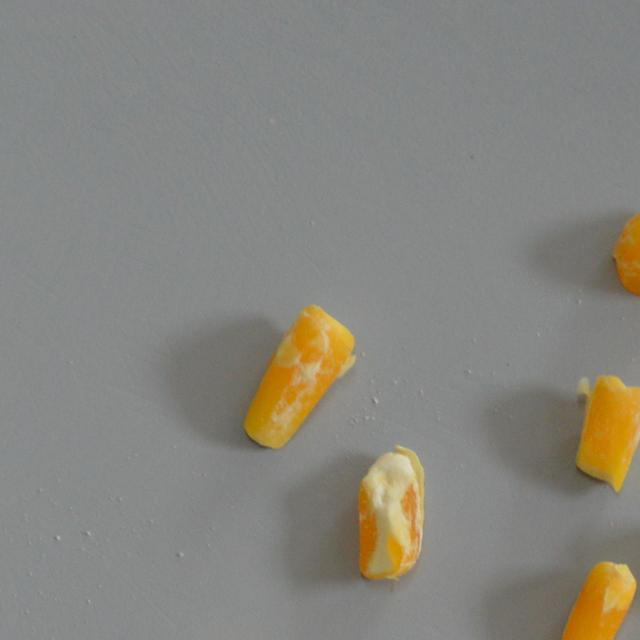estandar: (554, 560, 637, 640)
pelicula: (256, 300, 350, 458), (318, 474, 460, 552), (545, 388, 640, 470), (605, 204, 640, 294)
